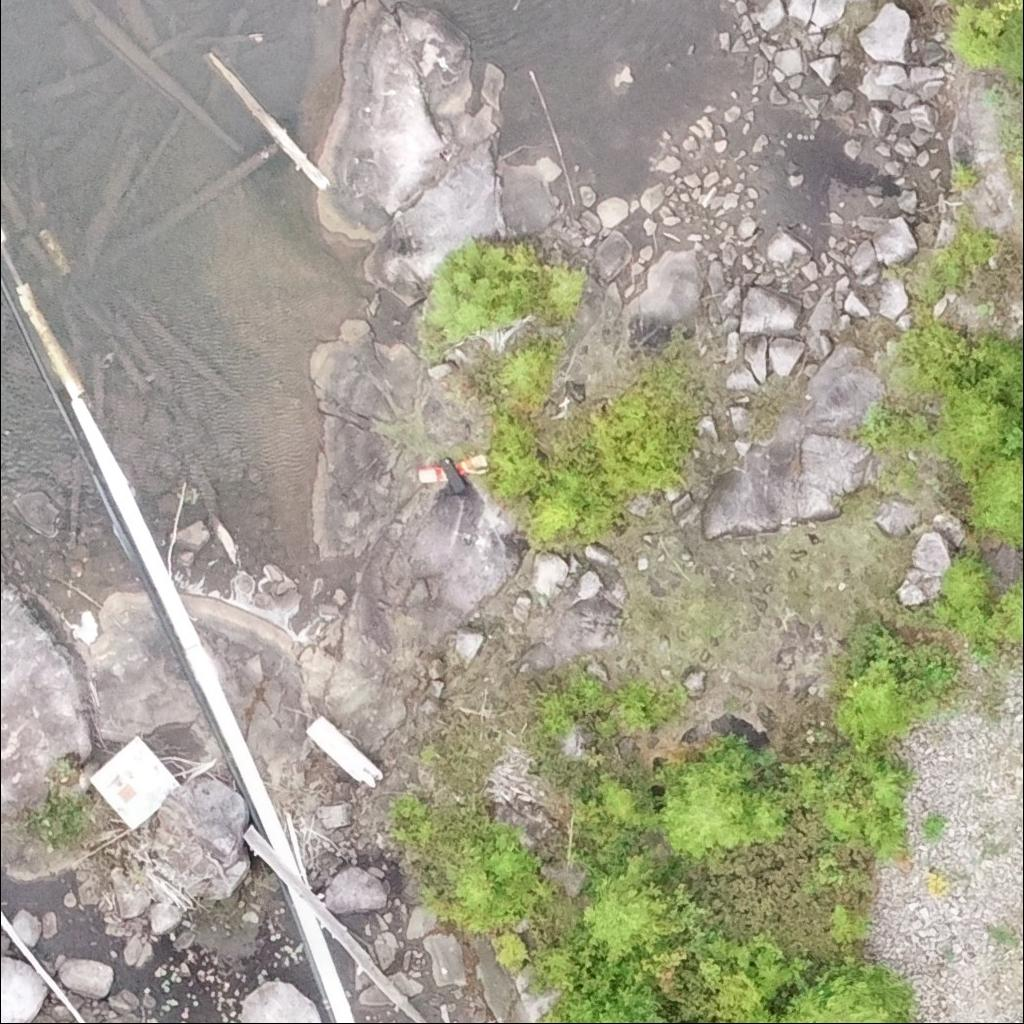crown: (579, 850, 690, 967), (928, 373, 1023, 487), (667, 767, 781, 853), (552, 948, 664, 1023), (784, 959, 912, 1023), (968, 451, 1023, 548), (532, 942, 595, 991), (936, 557, 991, 611), (994, 583, 1023, 643), (742, 1006, 809, 1023)
